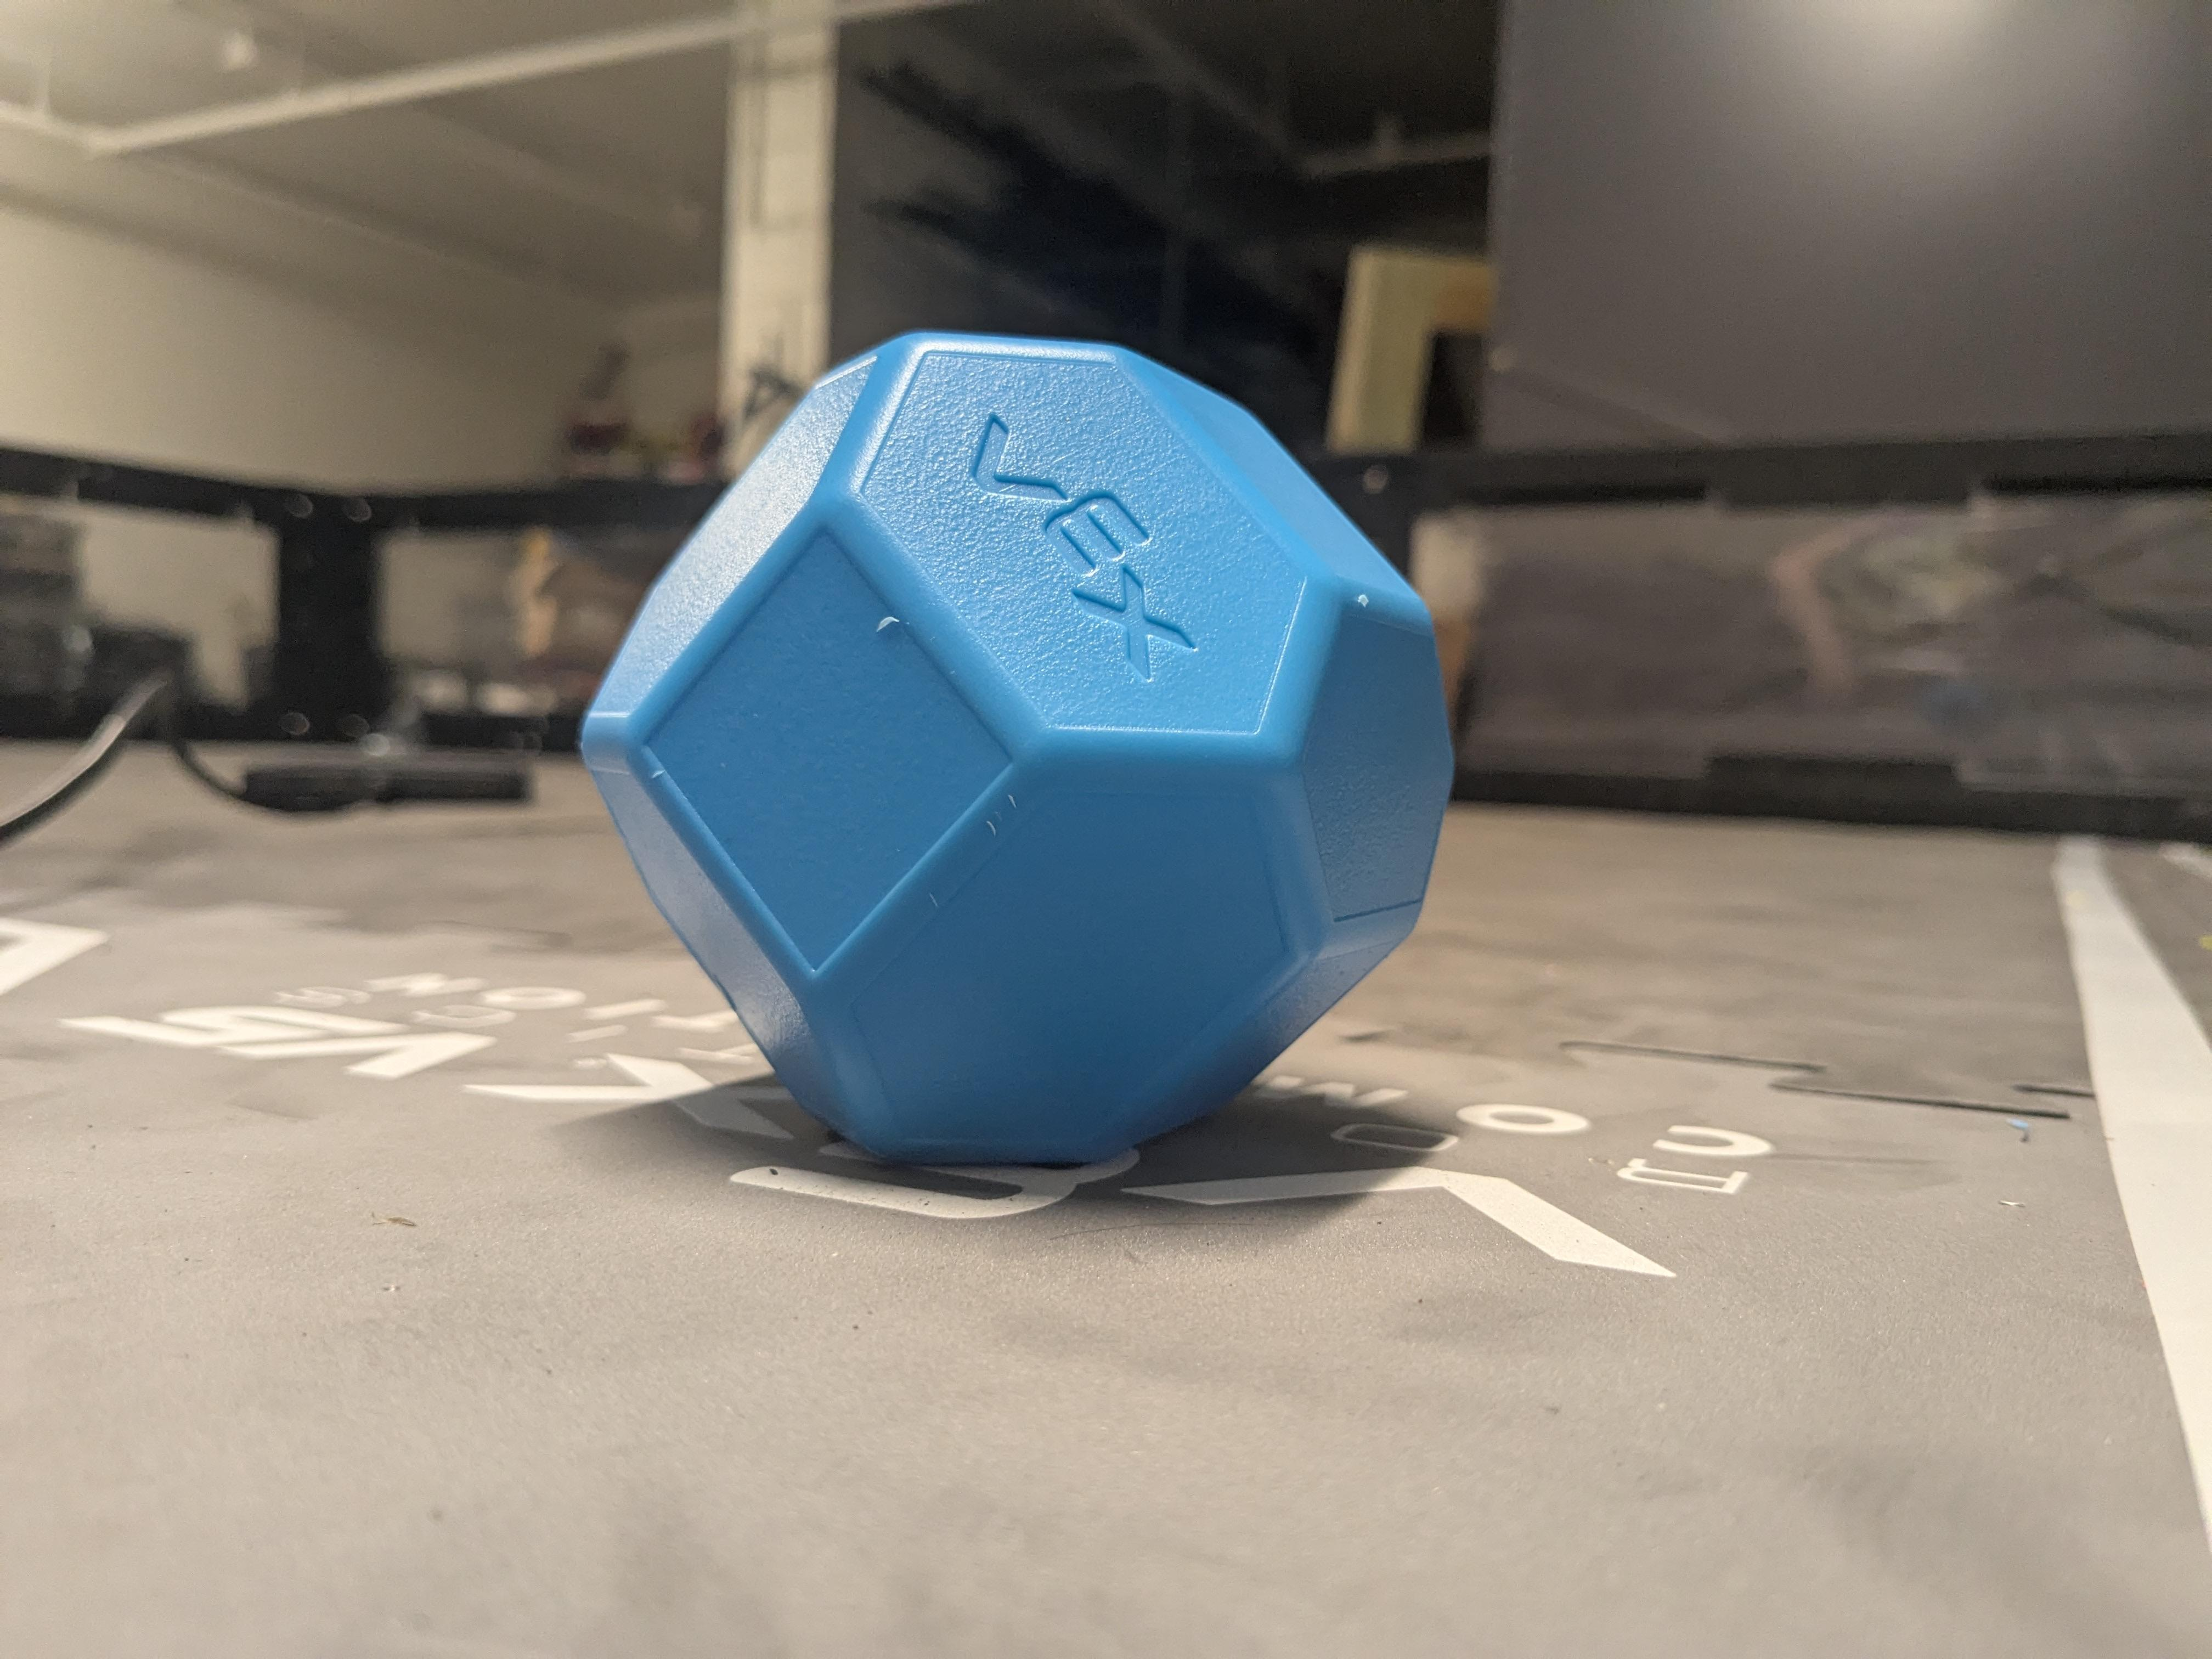Vex-Pieces-BLUE: (583, 342, 1461, 1182)
